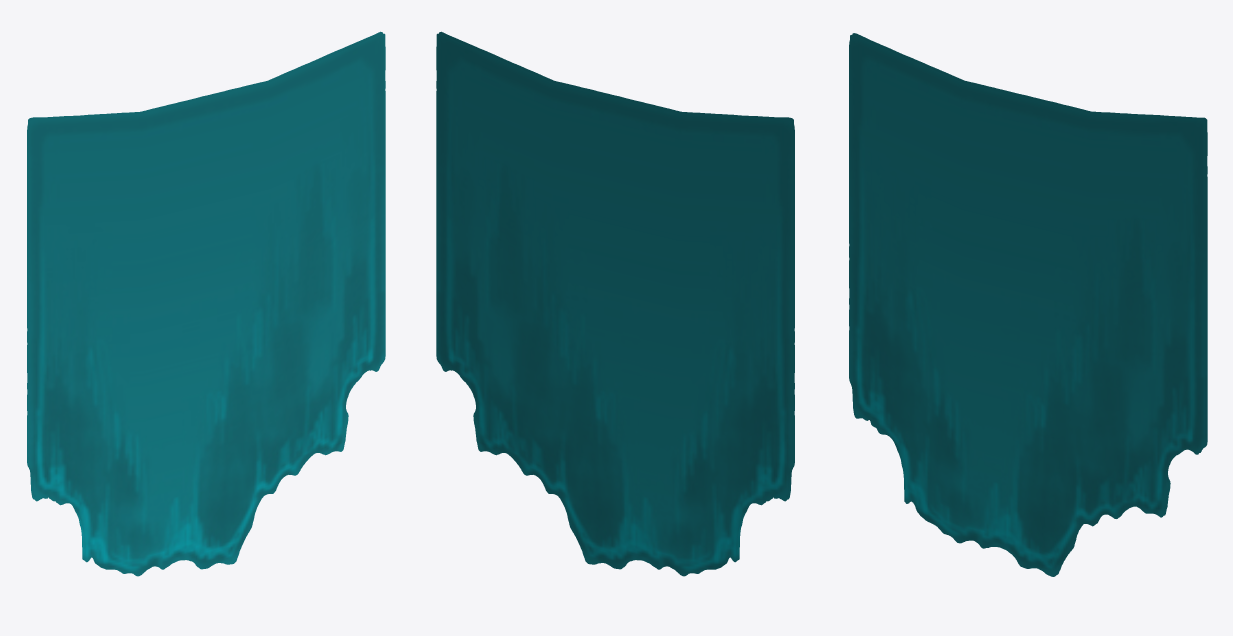
File: DE_House_Mod_Part_30d.fbx
The picture shows the model from 3 angles, left to right: view 1: azimuth 30°, elevation 25°; view 2: azimuth 150°, elevation 25°; view 3: azimuth 330°, elevation 25°; orthographic projection.
Visible parts, largest first — view 1: DE_House_Mod_Part_30d; view 2: DE_House_Mod_Part_30d; view 3: DE_House_Mod_Part_30d.
Part boxes in pixels (x1,y1,x2,y2): DE_House_Mod_Part_30d: (27, 31, 385, 576); DE_House_Mod_Part_30d: (436, 31, 794, 576); DE_House_Mod_Part_30d: (849, 33, 1207, 576).
Size of the model in its own units: 0.8807 by 1.19 by 0.00929.
